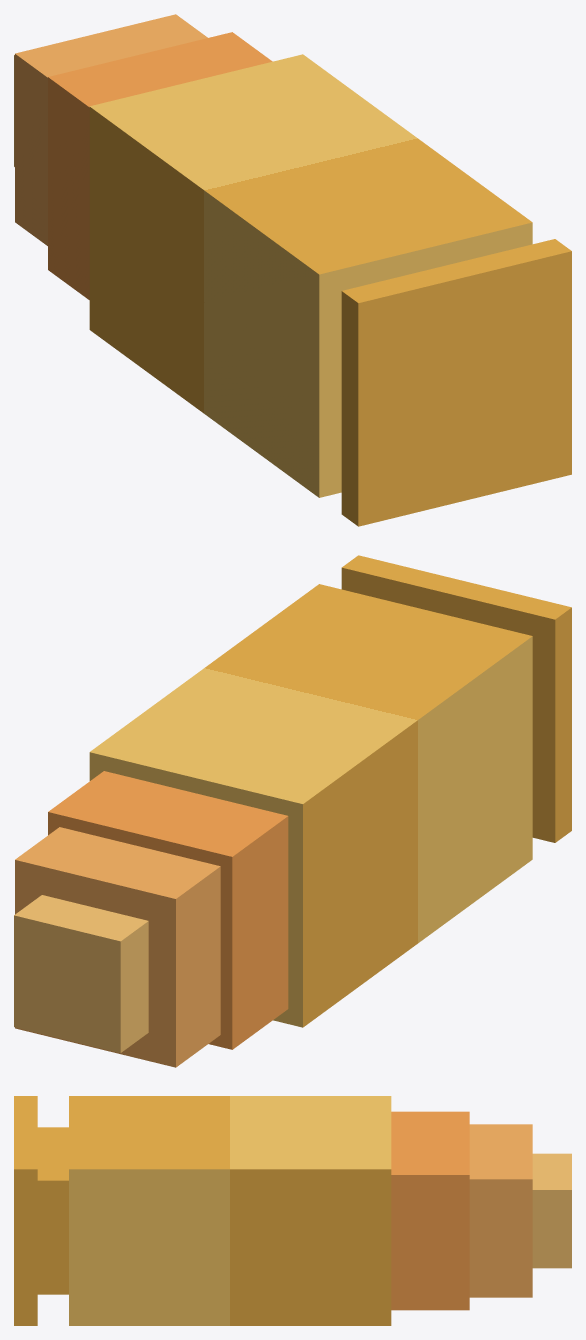
The model's file is glock_17_bullet.fbx.
3 views of the same model, one above another, from view 1: azimuth 30°, elevation 25°; view 2: azimuth 150°, elevation 25°; view 3: azimuth 270°, elevation 25° (orthographic). The views are drawn at different scales.
Visible parts, largest first — view 1: cube, cube_1, cube_4, cube_3; view 2: cube, cube_4, cube_3, cube_5, cube_1; view 3: cube, cube_4, cube_3, cube_1, cube_2, cube_5.
Part boxes in pixels (<box>): cube: <box>89,54,532,497</box>; cube_1: <box>341,239,571,526</box>; cube_4: <box>48,32,272,299</box>; cube_3: <box>15,14,207,245</box>; cube: <box>89,584,532,1027</box>; cube_4: <box>48,771,288,1049</box>; cube_3: <box>15,827,220,1067</box>; cube_5: <box>14,895,148,1052</box>; cube_1: <box>341,555,571,842</box>; cube: <box>69,1096,391,1325</box>; cube_4: <box>391,1111,469,1310</box>; cube_3: <box>469,1124,532,1297</box>; cube_1: <box>14,1096,37,1325</box>; cube_2: <box>37,1127,68,1294</box>; cube_5: <box>532,1153,571,1268</box>.
Size of the model in its own units: 5.37 by 5.37 by 17.33.
Materials: 1 (1 with a texture image).
